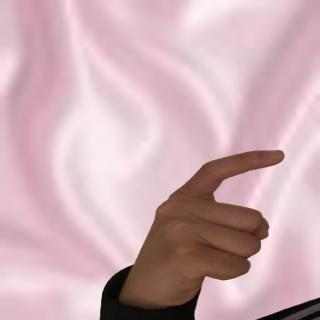WHY: (115, 142, 291, 306)
